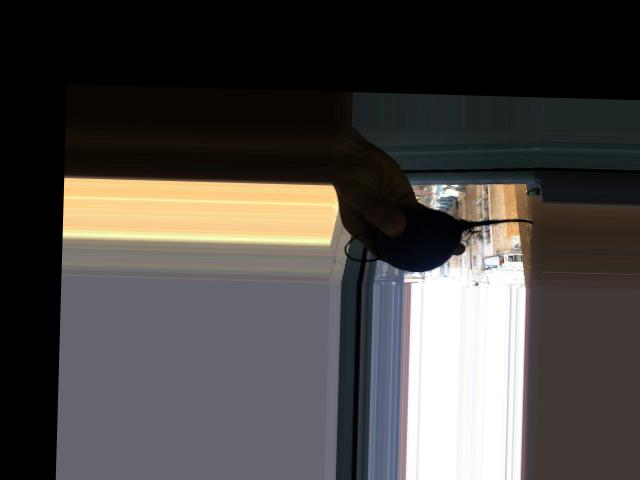beet: (345, 205, 534, 275)
